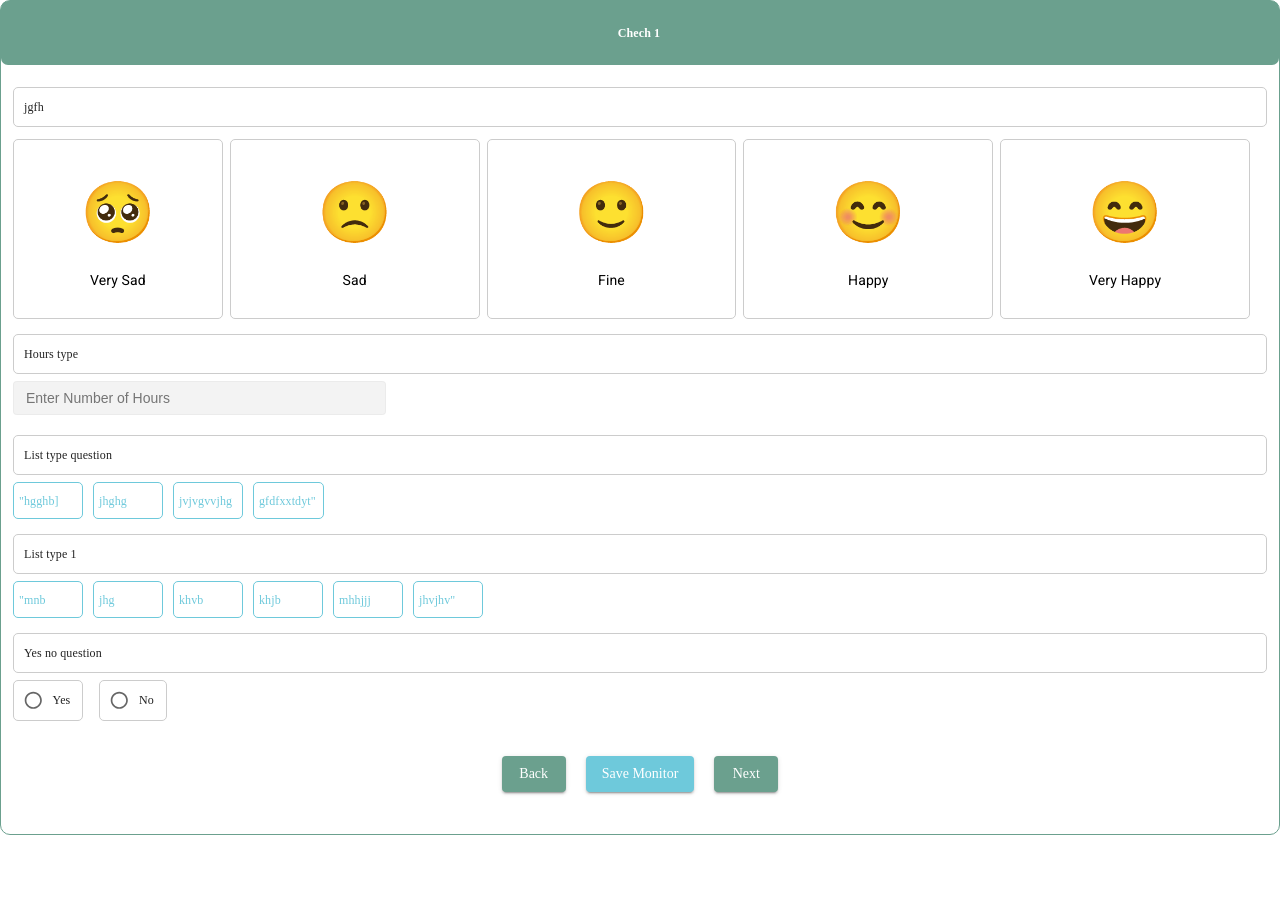
Therapist monitor response submit › should submit monitor view response
Check: the text "Very Happy" is shown, box [1089,272,1161,288]
Click the element with test id "emojiOption_4" at (1125, 229), box [1000,139,1250,319]
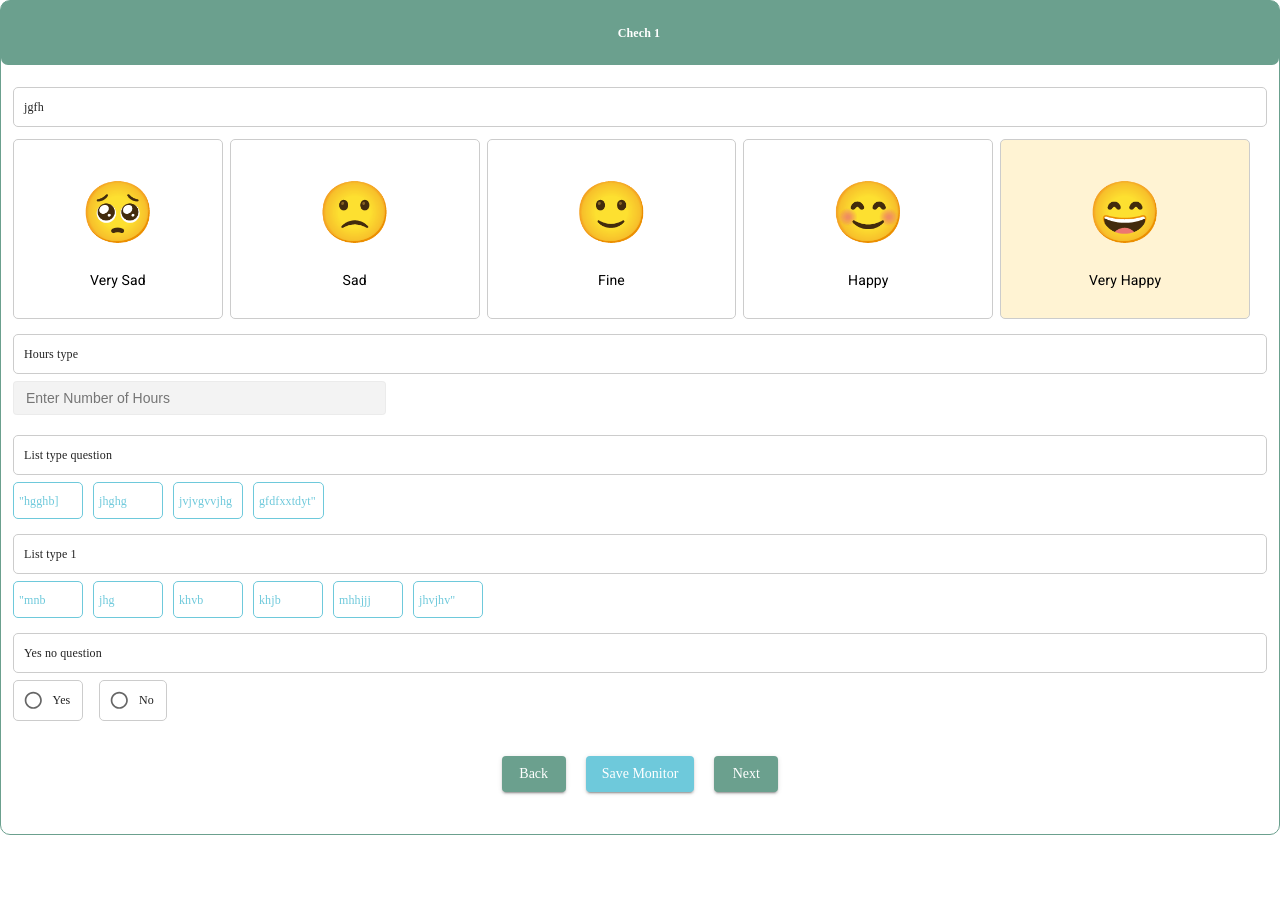
Type "12" into the number field with test id "hoursInput" at (200, 398), box [13,381,386,415]
Click the element with test id "csvElement_2_1" at (128, 500), box [93,482,163,519]
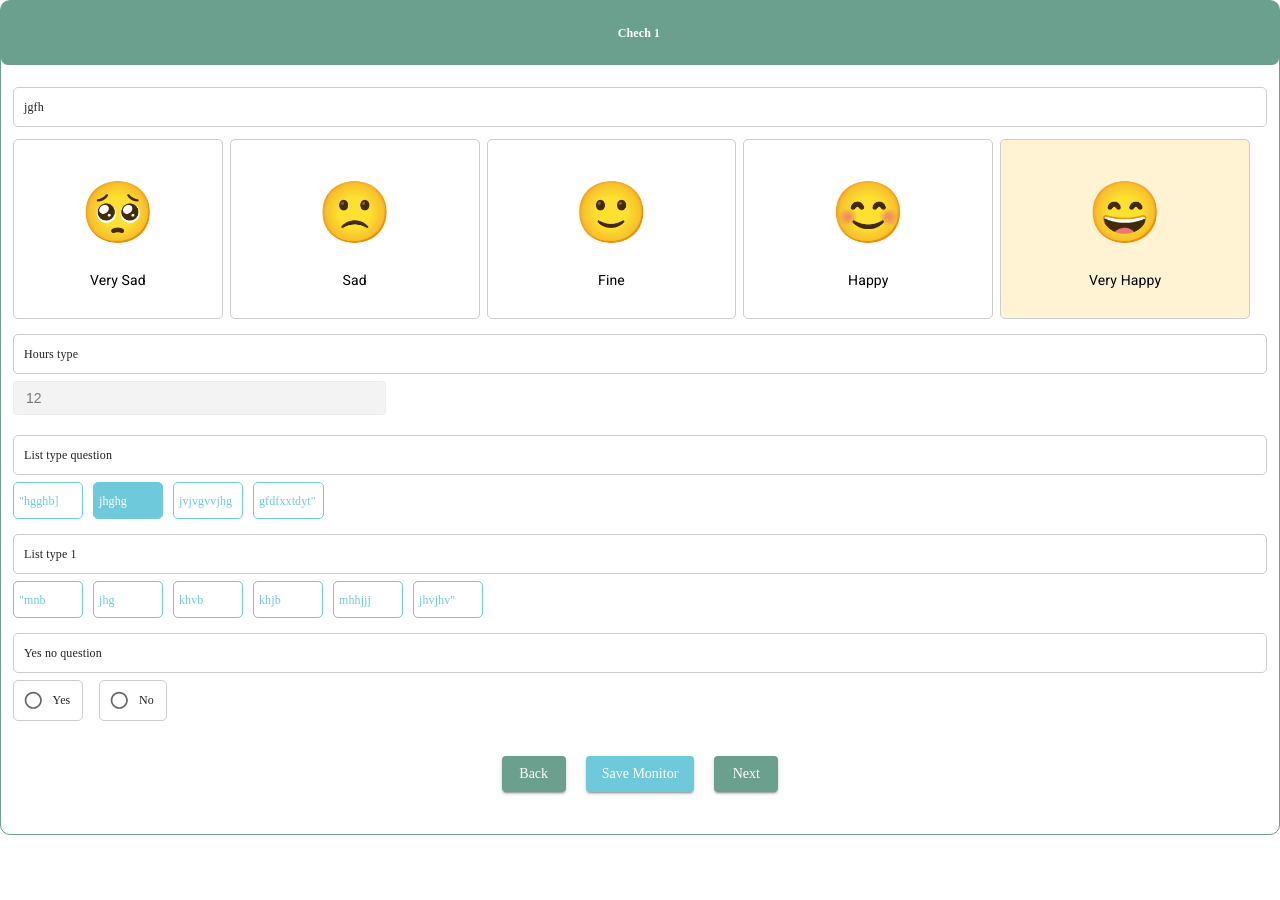
Click the element with test id "csvElement_3_2" at (208, 600), box [173,581,243,618]
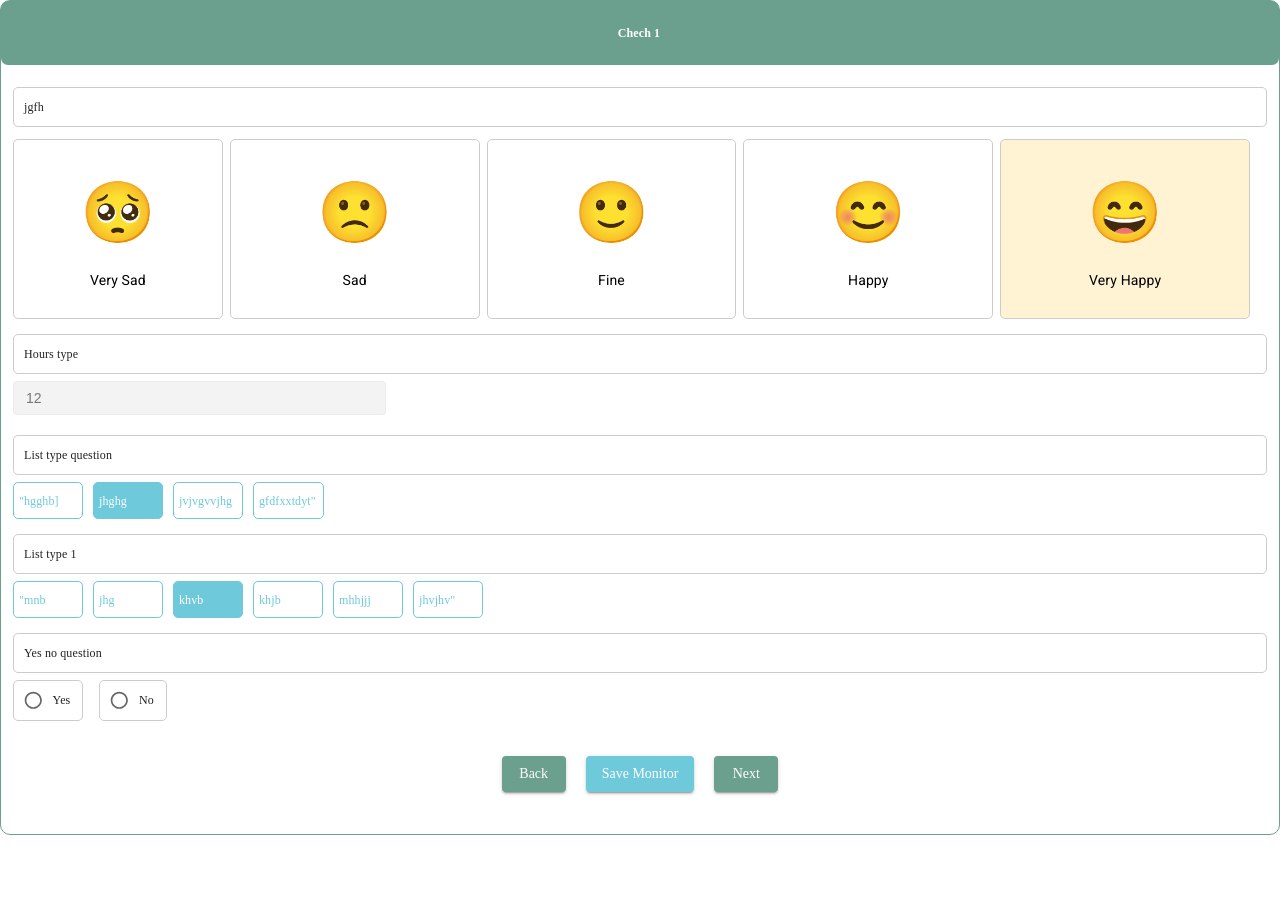
Click the radio button with test id "radio_yes" at (48, 700), box [13,680,83,721]
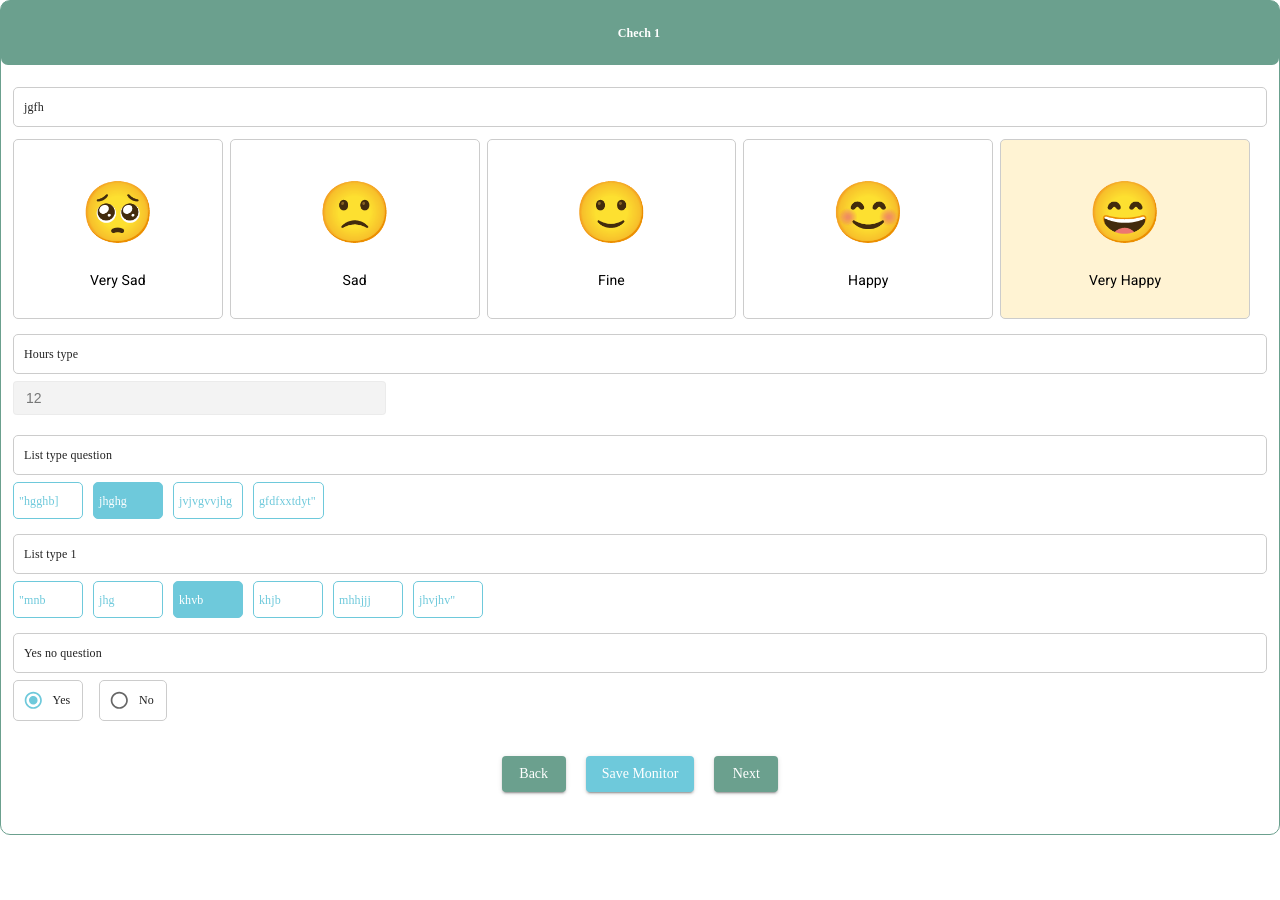
Click the button with test id "saveMonitorBtn" at (640, 774), box [586,756,694,792]
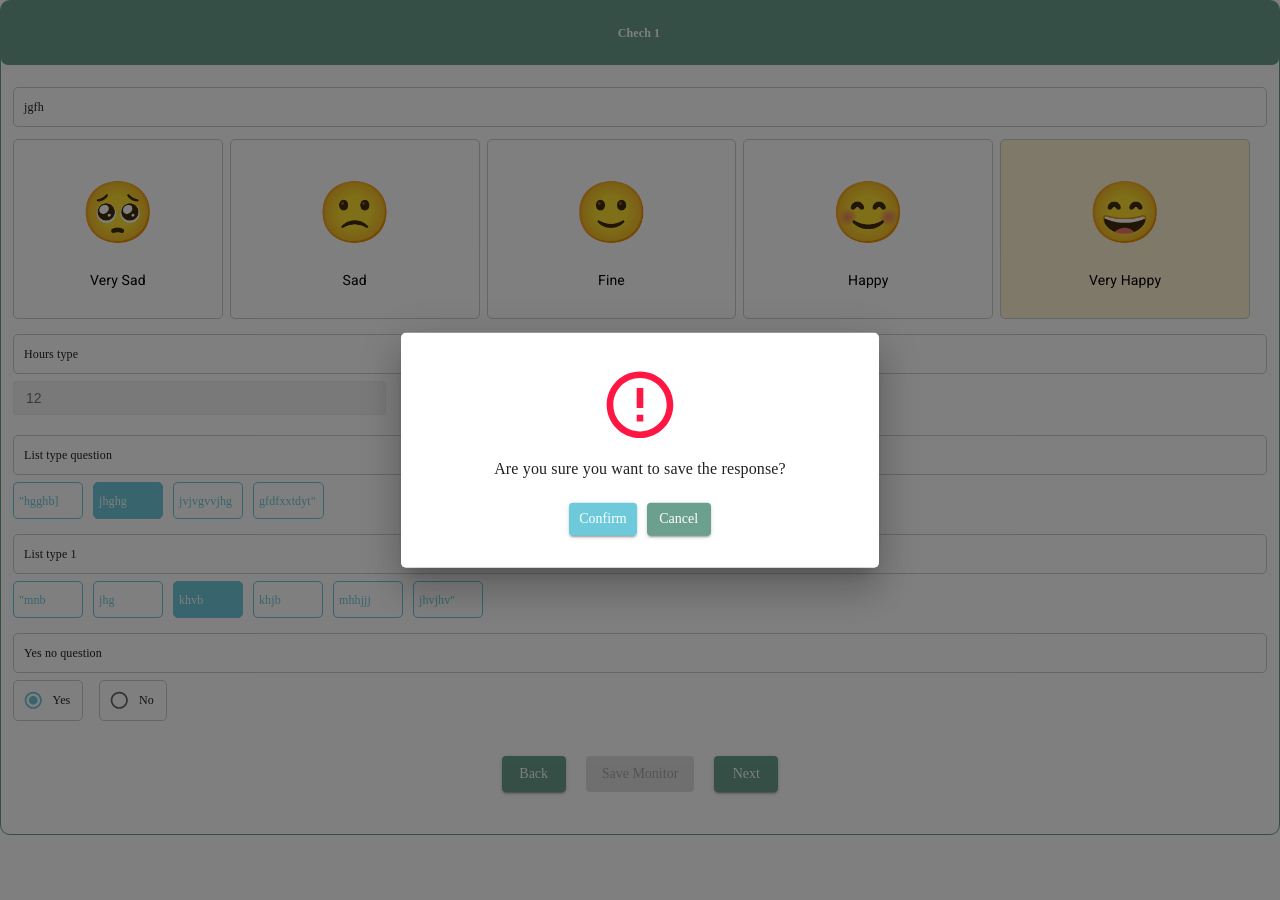
Click the button with test id "confirmButton" at (603, 519), box [569,503,637,535]
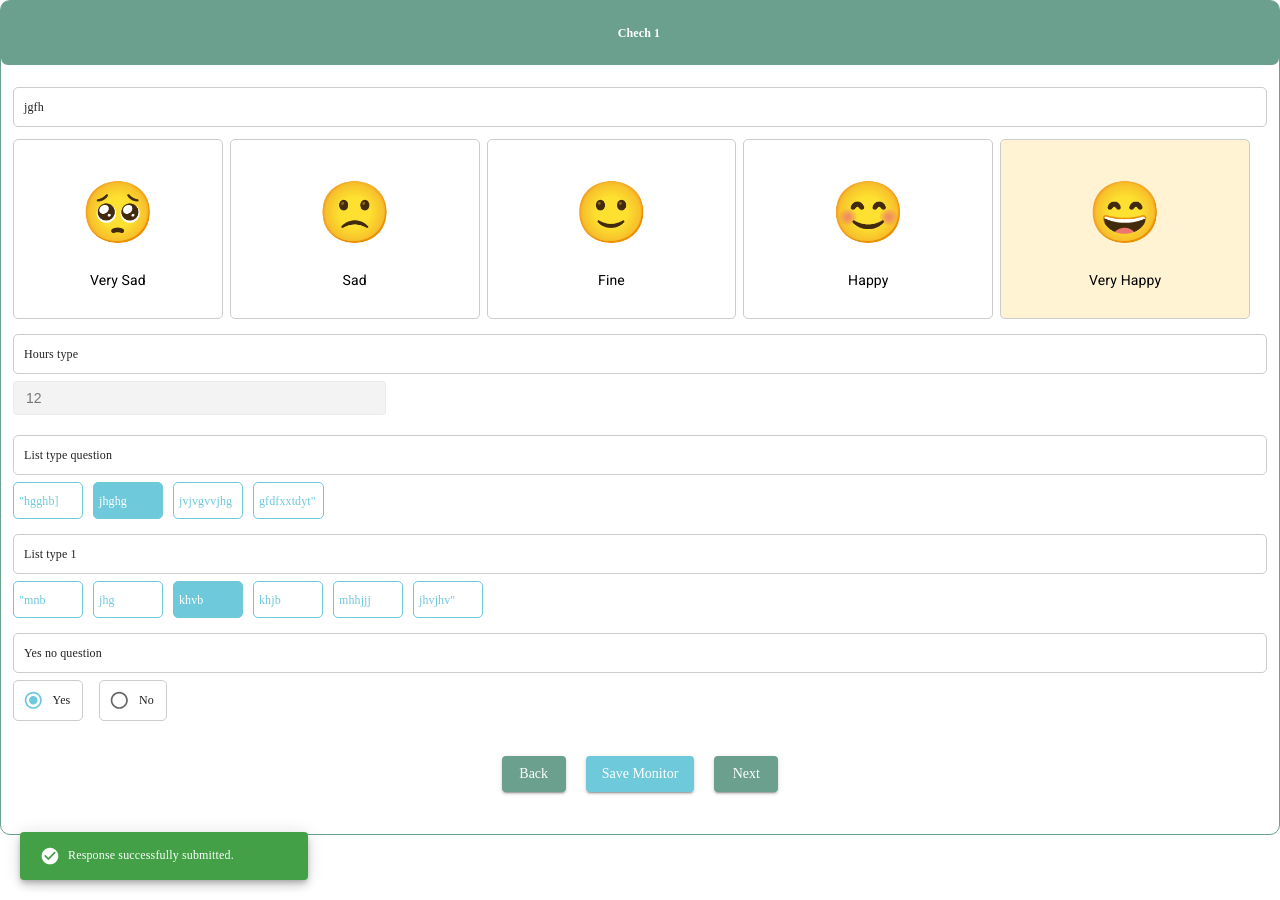
Check: the text "Response successfully submitted." is shown, box [40,846,234,866]
